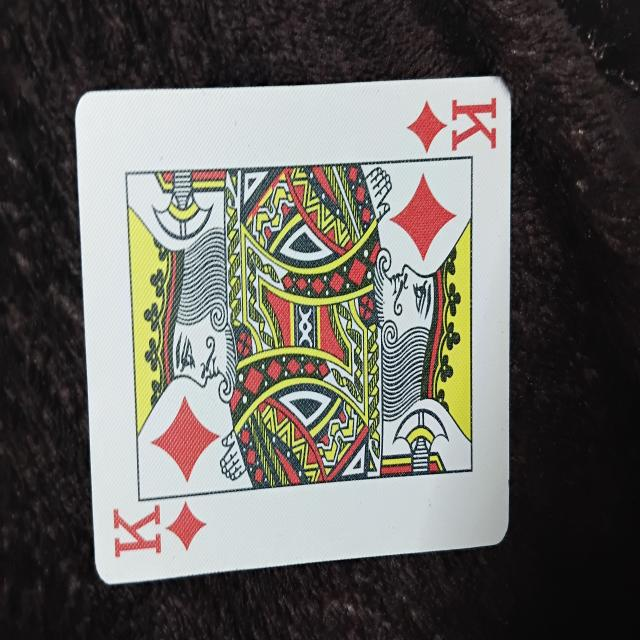KD: (78, 75, 510, 580)
